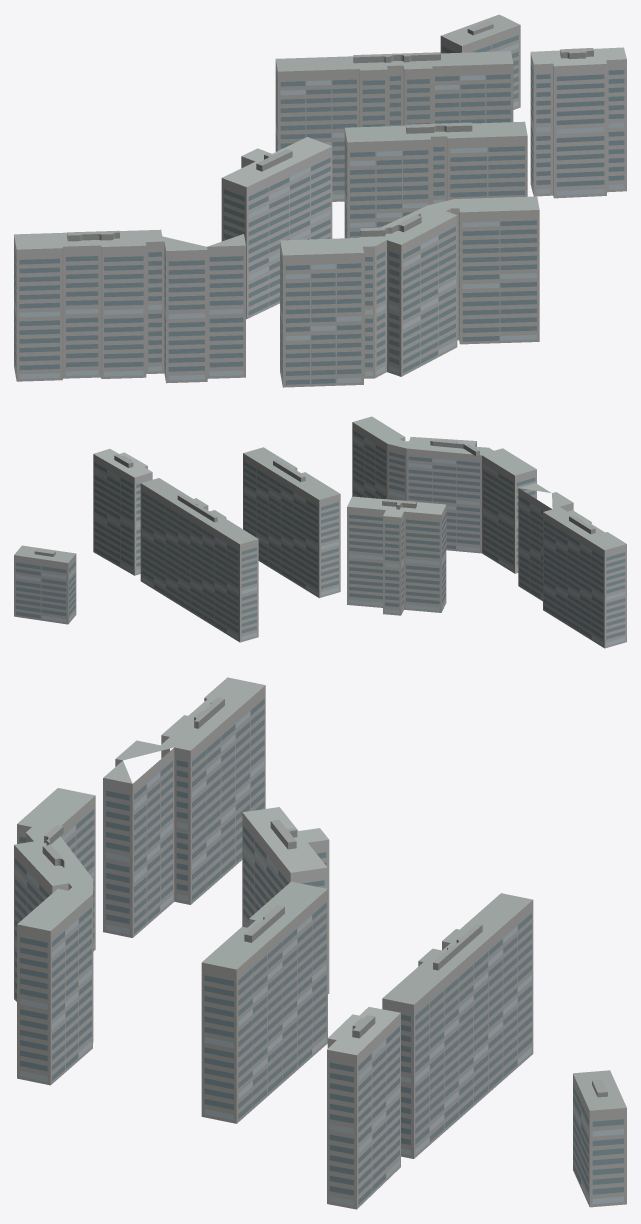
The model's file is apt-a13290809.glb.
3 views of the same model, one above another, from view 1: azimuth 30°, elevation 25°; view 2: azimuth 150°, elevation 25°; view 3: azimuth 270°, elevation 25° (orthographic). The views are drawn at different scales.
Parts seen in each view (by area): view 1: apt-a13290809; view 2: apt-a13290809; view 3: apt-a13290809.
Part boxes in pixels (x1,y1,x2,y2): apt-a13290809: [14, 14, 626, 387]; apt-a13290809: [14, 416, 626, 648]; apt-a13290809: [14, 677, 626, 1209].
Size of the model in its own units: 240 by 47.81 by 165.
